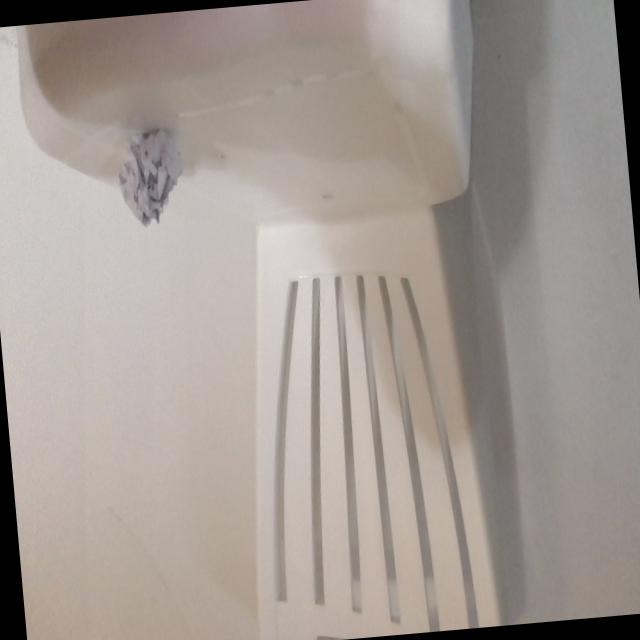crumpled_paper: (112, 122, 188, 234)
